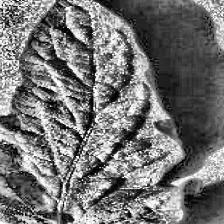spider mites: (0, 0, 198, 224)
